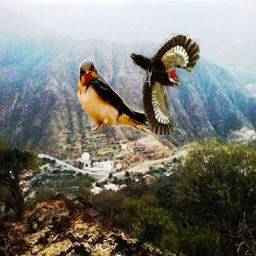Swallow: (76, 59, 166, 143)
Woodpecker: (130, 33, 201, 135)
